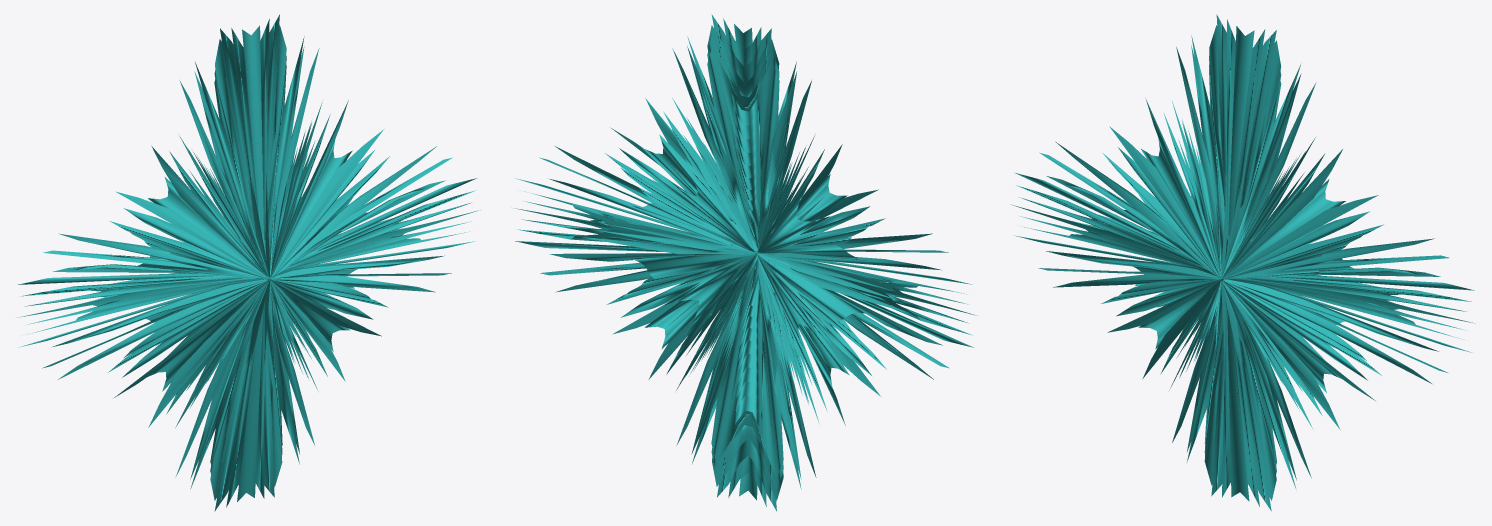
File: uuon-hypercross.glb
The picture shows the model from 3 angles, left to right: view 1: azimuth 30°, elevation 25°; view 2: azimuth 150°, elevation 25°; view 3: azimuth 330°, elevation 25°; orthographic projection.
Parts seen in each view (by area): view 1: task_shader_001_solid; view 2: task_shader_001_solid; view 3: task_shader_001_solid.
Part boxes in pixels (box(x1,y1,x2,y2)): task_shader_001_solid: box(16, 14, 480, 511); task_shader_001_solid: box(513, 14, 977, 511); task_shader_001_solid: box(1011, 14, 1475, 511).
Bounding box in the file's own units: 884 × 884 × 73.75.
